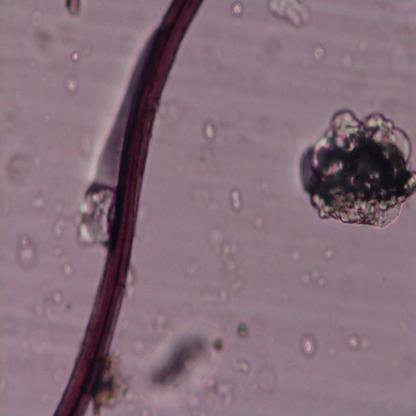Background material: (295, 103, 416, 230), (139, 316, 218, 403), (203, 217, 246, 311), (76, 174, 118, 248), (94, 360, 131, 416), (27, 4, 59, 62), (186, 177, 220, 219), (46, 190, 75, 239), (268, 0, 310, 31), (2, 150, 34, 184), (207, 372, 234, 408), (164, 92, 186, 130), (298, 329, 321, 363), (16, 230, 36, 268), (256, 370, 280, 398), (301, 268, 328, 288), (45, 282, 67, 304), (306, 40, 326, 64), (65, 0, 85, 22), (230, 184, 245, 213), (335, 50, 354, 71), (345, 329, 360, 352), (231, 0, 248, 16), (235, 323, 253, 338), (203, 120, 216, 140), (61, 262, 75, 280), (65, 78, 81, 93), (294, 244, 305, 265), (236, 361, 254, 373), (324, 246, 336, 259), (69, 52, 81, 64)
Microfibre: (52, 0, 202, 416)
